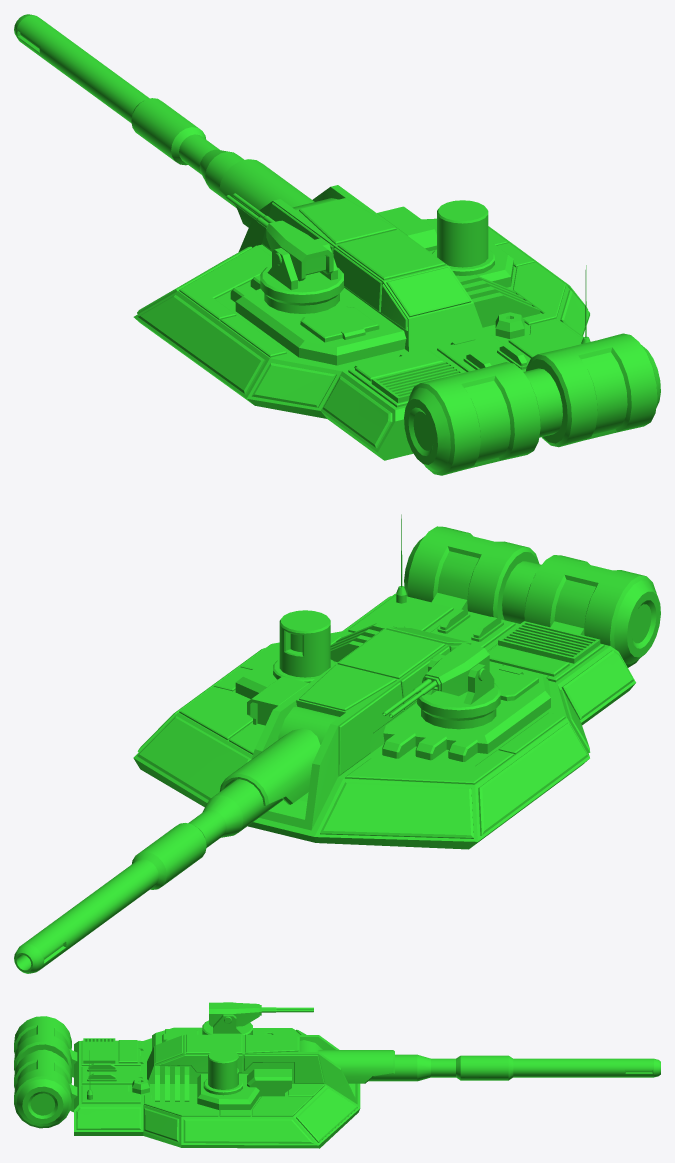
Rendered from EnemyTankTurret.fbx.
3 views of the same model, one above another, from view 1: azimuth 30°, elevation 25°; view 2: azimuth 150°, elevation 25°; view 3: azimuth 270°, elevation 25° (orthographic). The views are drawn at different scales.
Visible parts, largest first — view 1: TankTop; view 2: TankTop; view 3: TankTop.
Part boxes in pixels (x1=…): TankTop: x1=14, y1=14, x2=660, y2=475; TankTop: x1=14, y1=514, x2=660, y2=973; TankTop: x1=14, y1=1002, x2=660, y2=1148.
Bounding box in the file's own units: 0.6521 × 0.2786 × 1.75.
